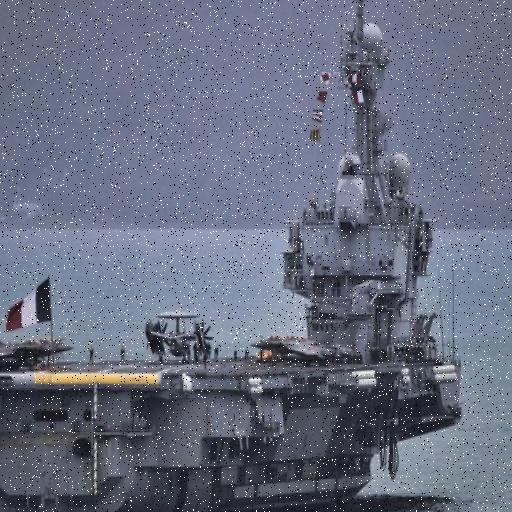Portanaves: (1, 1, 465, 512)
